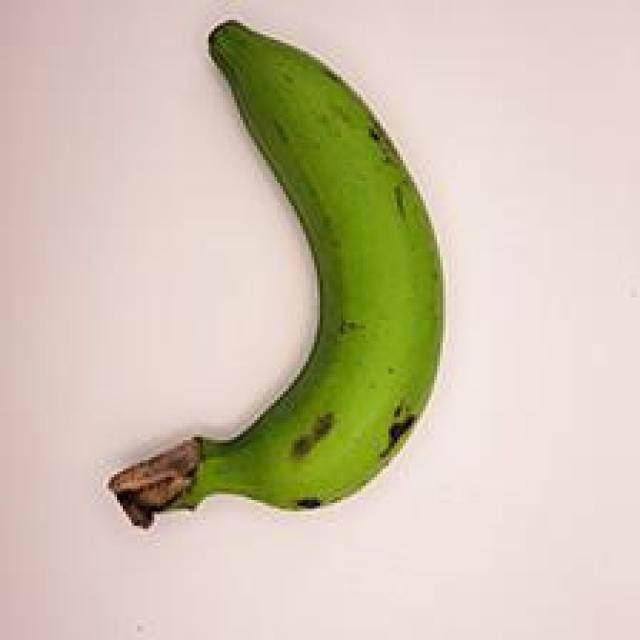Raw: (87, 3, 463, 565)
